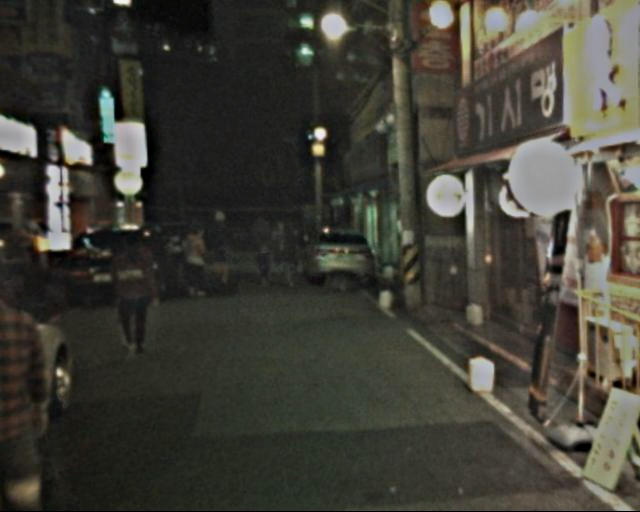person: (1, 248, 73, 509), (112, 230, 164, 358), (181, 221, 217, 304), (207, 208, 237, 282), (250, 212, 278, 291), (279, 221, 306, 296)
